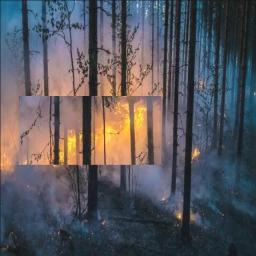Low smoke: (15, 17, 253, 256)
Small fire: (27, 103, 155, 164)
